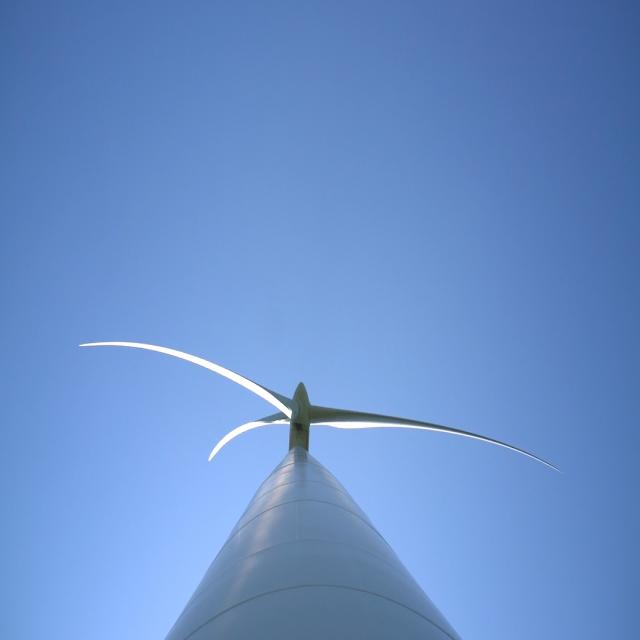blade 1: (341, 402, 452, 456)
blade 2: (188, 402, 290, 463)
blade 3: (118, 331, 284, 384)
